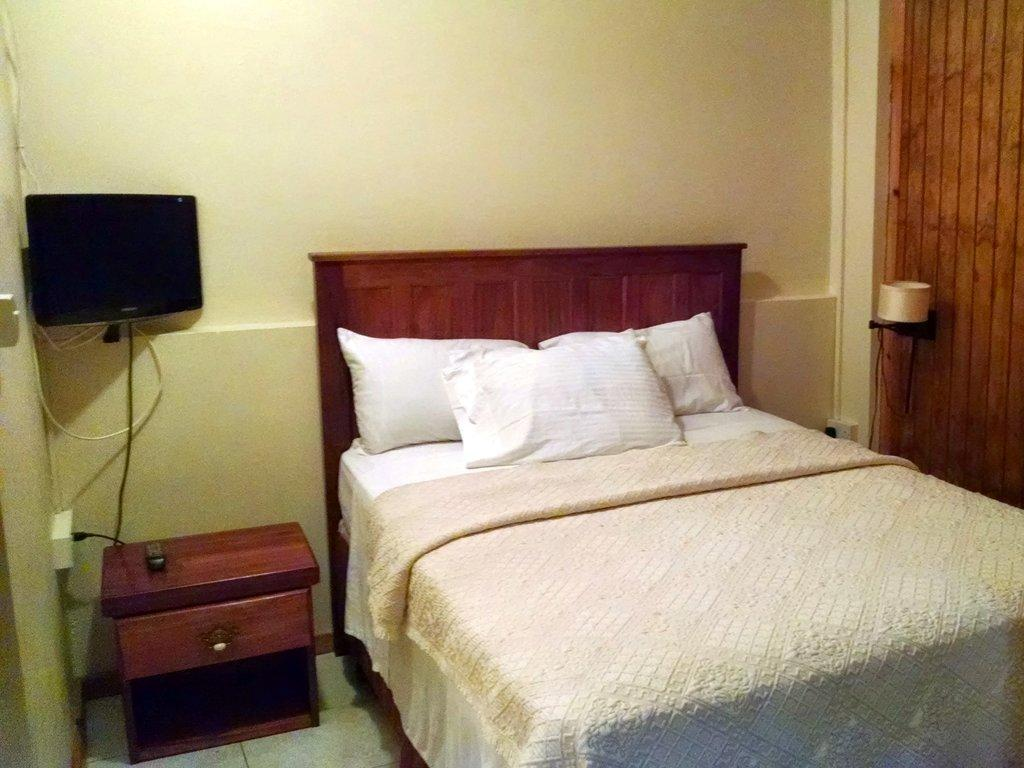cabinet_door: (126, 600, 316, 658)
handle: (200, 627, 234, 659)
